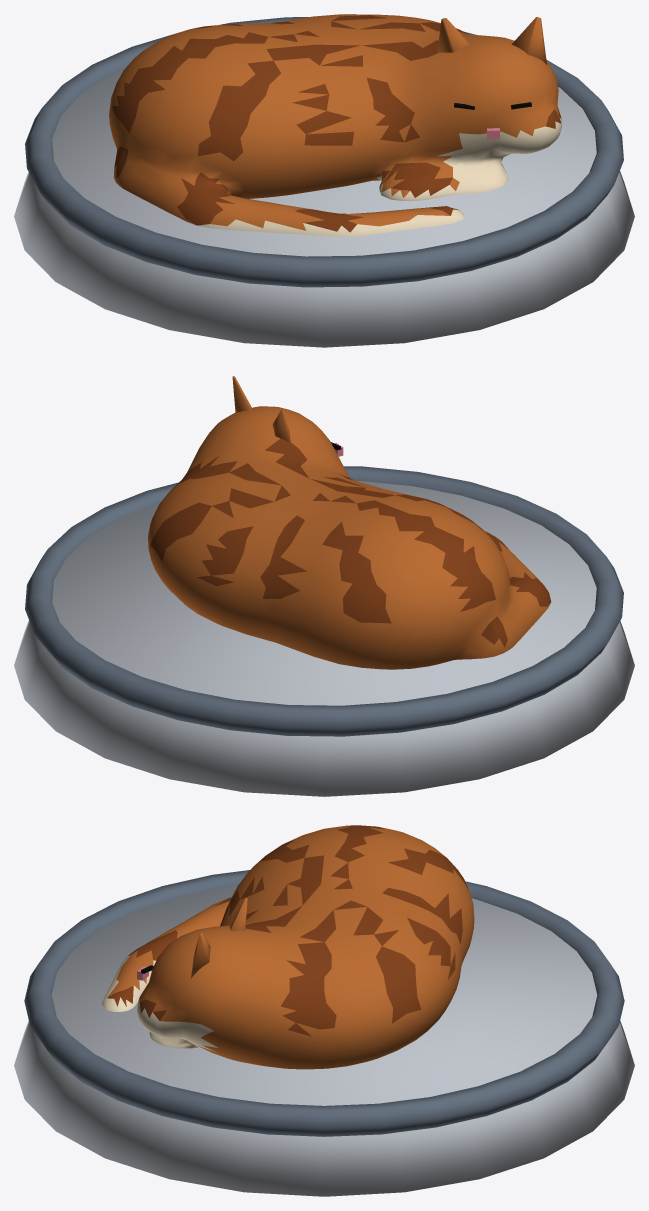
The model's file is Pet_Cat_Curled.gltf.
3 views of the same model, one above another, from view 1: azimuth 30°, elevation 25°; view 2: azimuth 150°, elevation 25°; view 3: azimuth 270°, elevation 25° (orthographic).
Parts seen in each view (by area): view 1: Pet_Cat_Curled, CatCurled_Body; view 2: Pet_Cat_Curled, CatCurled_Body; view 3: Pet_Cat_Curled, CatCurled_Body.
Boxes of the visible parts, box(x1,y1,x2,y2) form: Pet_Cat_Curled: box(14, 17, 634, 347); CatCurled_Body: box(109, 14, 561, 236); Pet_Cat_Curled: box(14, 466, 634, 796); CatCurled_Body: box(148, 376, 551, 669); Pet_Cat_Curled: box(14, 870, 634, 1196); CatCurled_Body: box(101, 825, 474, 1069).
Bounding box in the file's own units: 0.48 × 0.1768 × 0.48.
